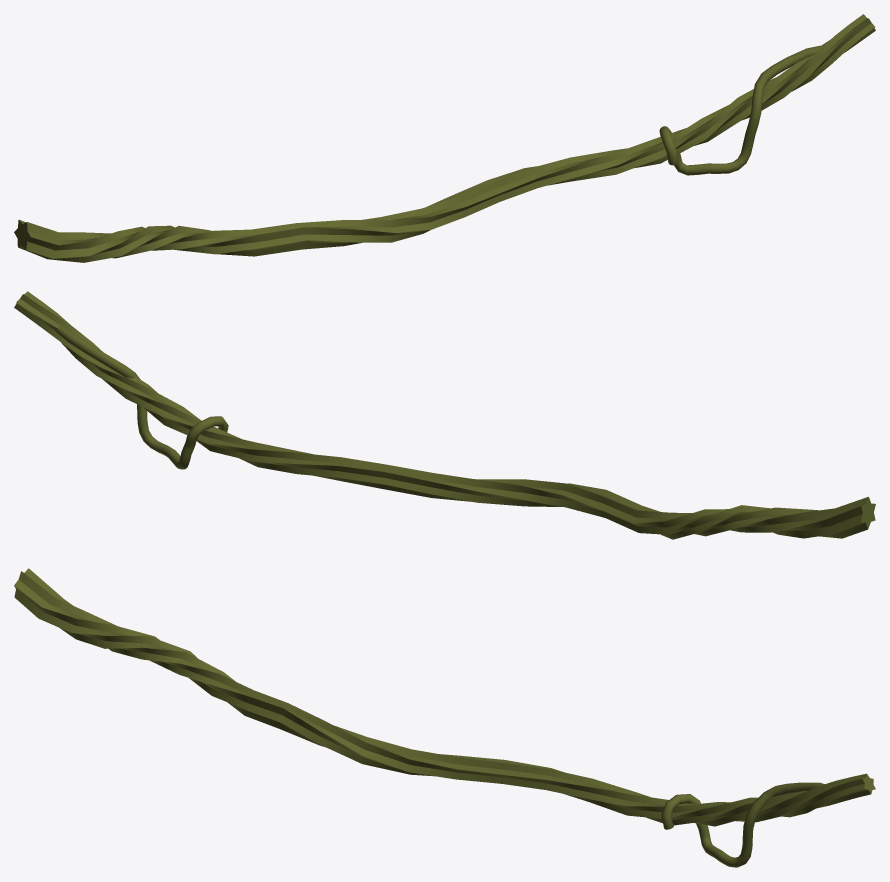
Rendered from Vine.fbx.
3 views of the same model, one above another, from view 1: azimuth 30°, elevation 25°; view 2: azimuth 150°, elevation 25°; view 3: azimuth 330°, elevation 25° (orthographic).
Parts seen in each view (by area): view 1: Big_Vine, Vine_Piece; view 2: Big_Vine, Vine_Piece; view 3: Big_Vine, Vine_Piece.
Boxes of the visible parts, left/top/right/bottom form: Big_Vine: left=14, top=14, right=875, bottom=262; Vine_Piece: left=659, top=45, right=823, bottom=175; Big_Vine: left=14, top=291, right=875, bottom=539; Vine_Piece: left=55, top=325, right=228, bottom=469; Big_Vine: left=14, top=568, right=875, bottom=826; Vine_Piece: left=661, top=782, right=824, bottom=867.
Size of the model in its own units: 22.26 by 3.17 by 1.56.
